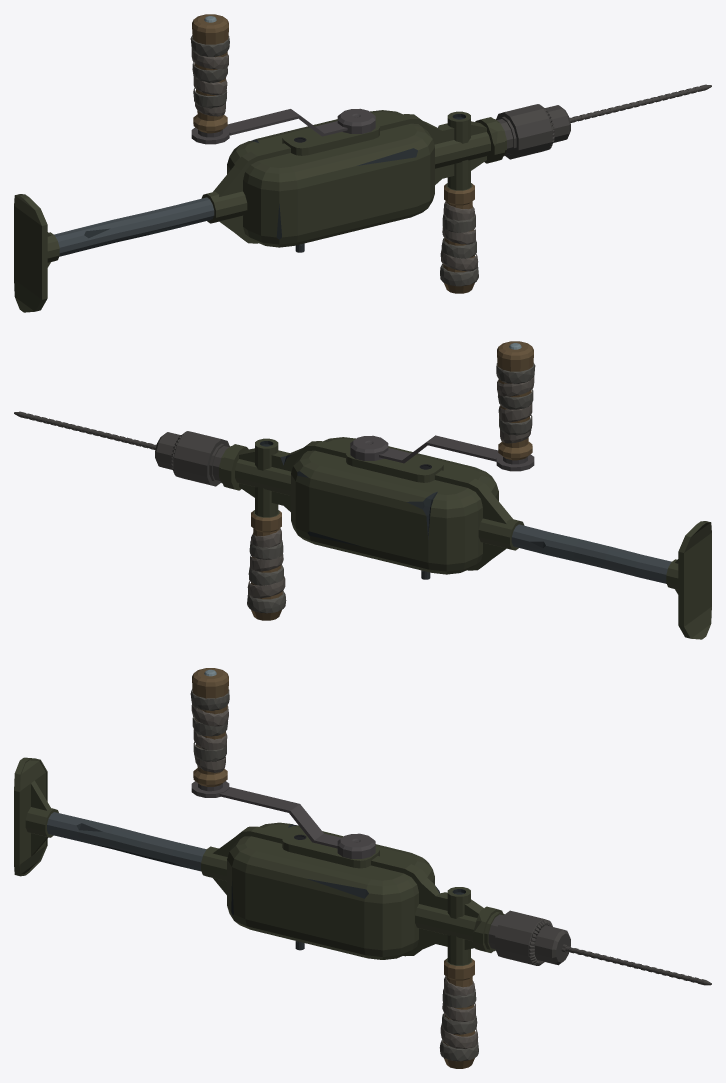
File: SM_HAND_DRILL.gltf
The picture shows the model from 3 angles, top to bottom: view 1: azimuth 30°, elevation 25°; view 2: azimuth 150°, elevation 25°; view 3: azimuth 330°, elevation 25°; orthographic projection.
Parts seen in each view (by area): view 1: SM_HAND_DRILL, Handle, DRILL; view 2: SM_HAND_DRILL, Handle, DRILL; view 3: SM_HAND_DRILL, Handle, DRILL.
Boxes of the visible parts, x1,y1,x2,y2 form: SM_HAND_DRILL: (14,110,506,312); Handle: (190,14,375,144); DRILL: (496,84,711,159); SM_HAND_DRILL: (219,437,711,639); Handle: (350,341,535,471); DRILL: (14,411,229,486); SM_HAND_DRILL: (14,757,504,1068); Handle: (190,668,375,858); DRILL: (488,910,711,985).
Bounding box in the file's own units: 0.8735 × 0.4036 × 0.1149.
